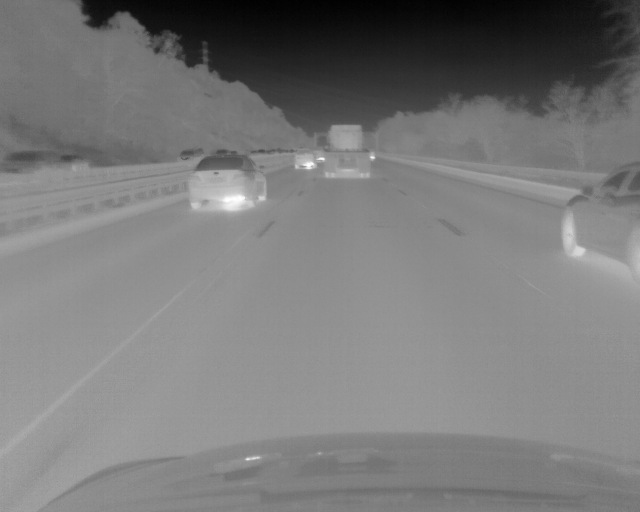car: (560, 162, 640, 282), (186, 156, 268, 209), (326, 124, 369, 177), (1, 150, 62, 176), (59, 154, 90, 172), (295, 148, 315, 169), (177, 148, 202, 160), (316, 149, 326, 164), (215, 149, 230, 156), (369, 148, 375, 161)
